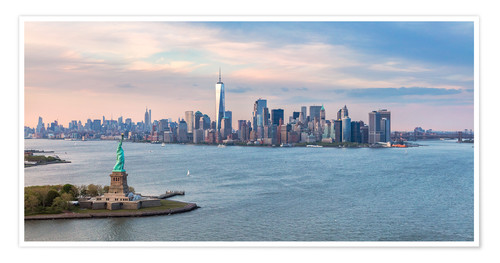wtc: (215, 67, 225, 129)
